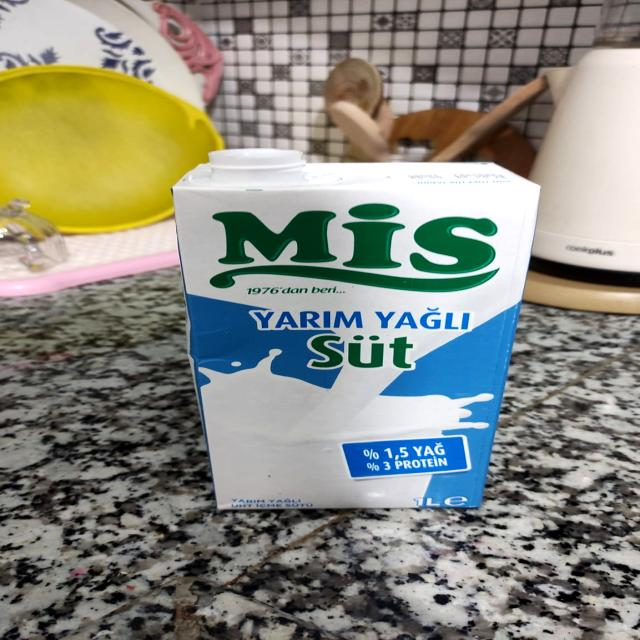milk: (152, 136, 548, 519)
